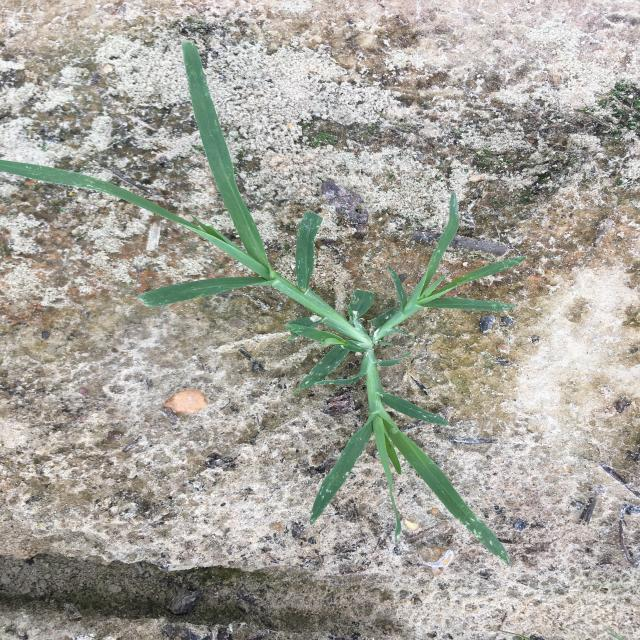Goosegrass: (0, 41, 526, 565)
